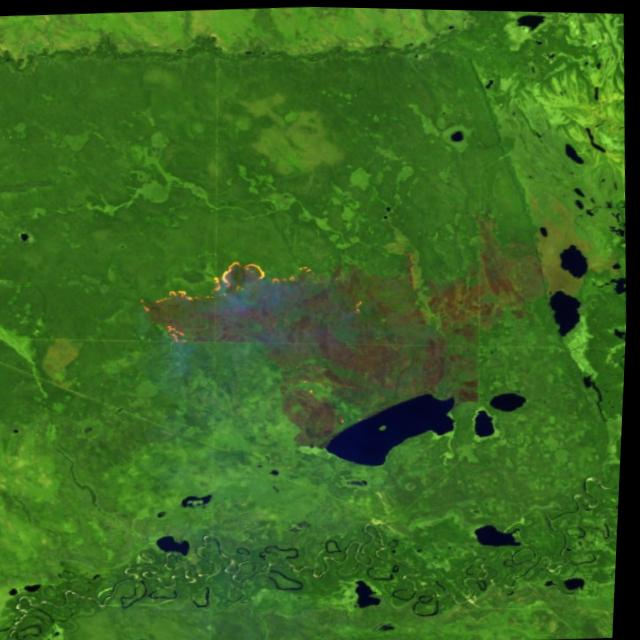fire: (136, 252, 319, 320)
